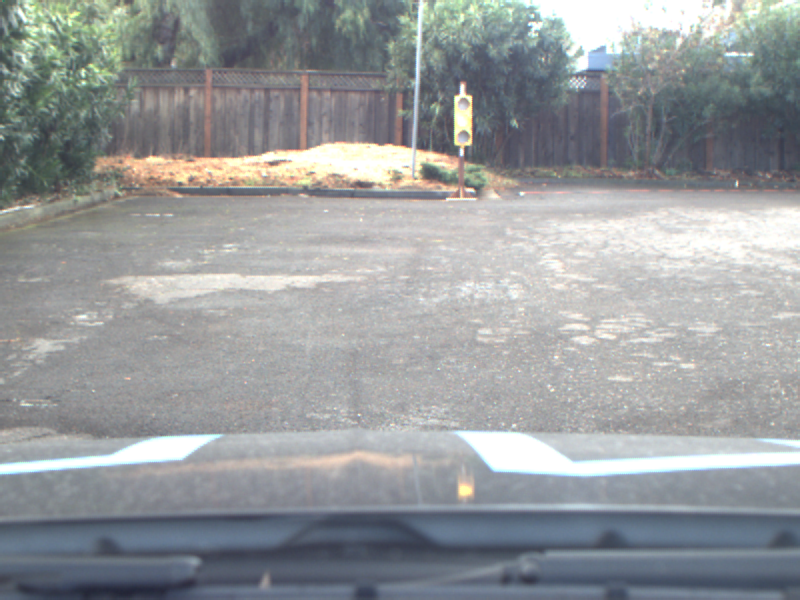Yellow: (453, 95, 473, 146)
